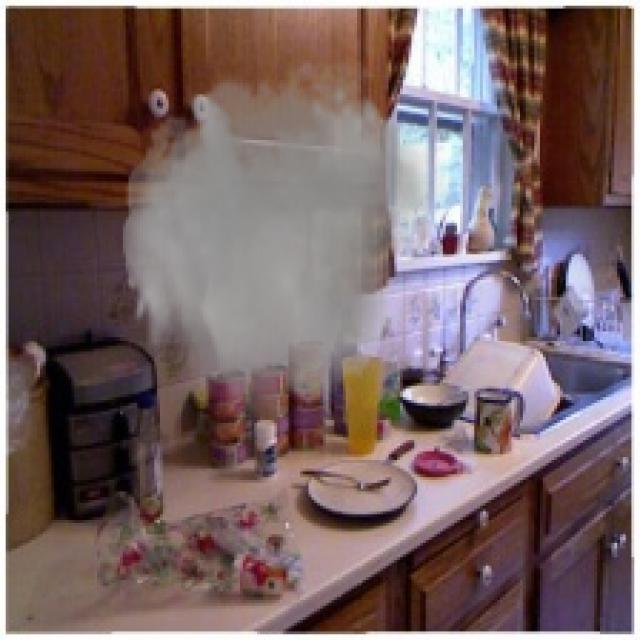smoke: (114, 43, 457, 451)
